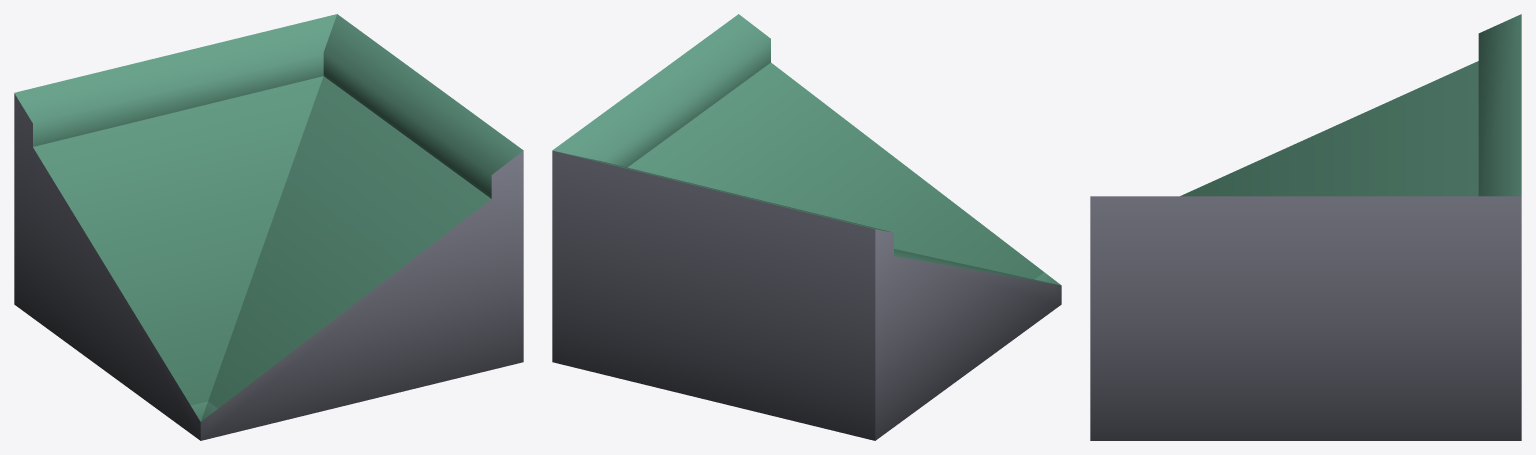
The model's file is roof-corner-inner.glb.
3 views of the same model, side by side, from view 1: azimuth 30°, elevation 25°; view 2: azimuth 150°, elevation 25°; view 3: azimuth 270°, elevation 25° (orthographic). The views are drawn at different scales.
Parts seen in each view (by area): view 1: roof-corner-inner; view 2: roof-corner-inner; view 3: roof-corner-inner.
Part boxes in pixels (box(x1,y1,x2,y2)): roof-corner-inner: box(14, 14, 523, 440); roof-corner-inner: box(552, 14, 1061, 440); roof-corner-inner: box(1090, 14, 1521, 440).
Size of the model in its own units: 3 by 1.88 by 3.
